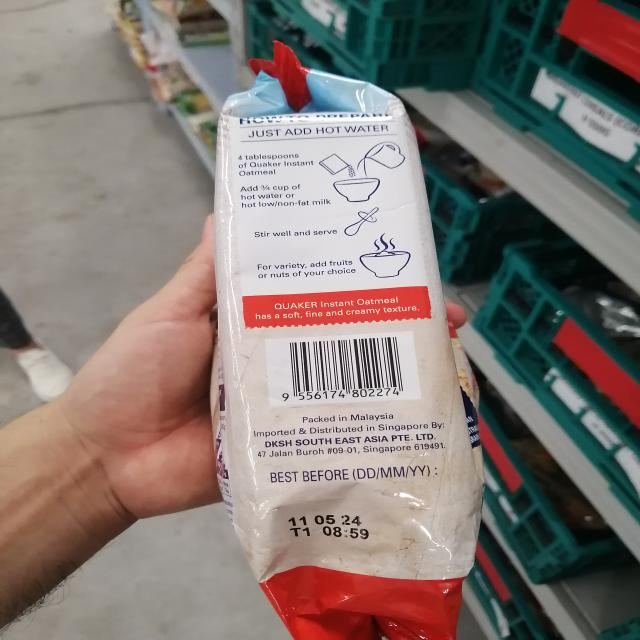object_name: (215, 71, 468, 640)
